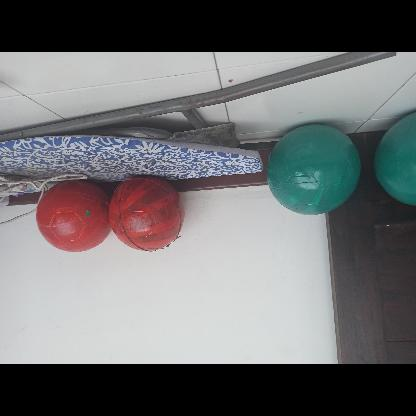red_ball: (38, 180, 113, 256), (110, 178, 184, 254)
